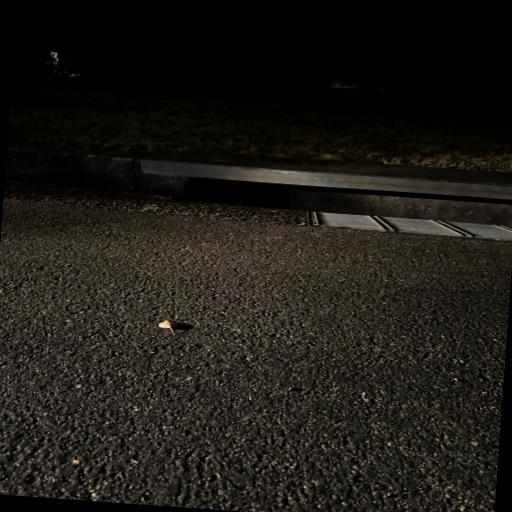kerb: (5, 143, 512, 241)
